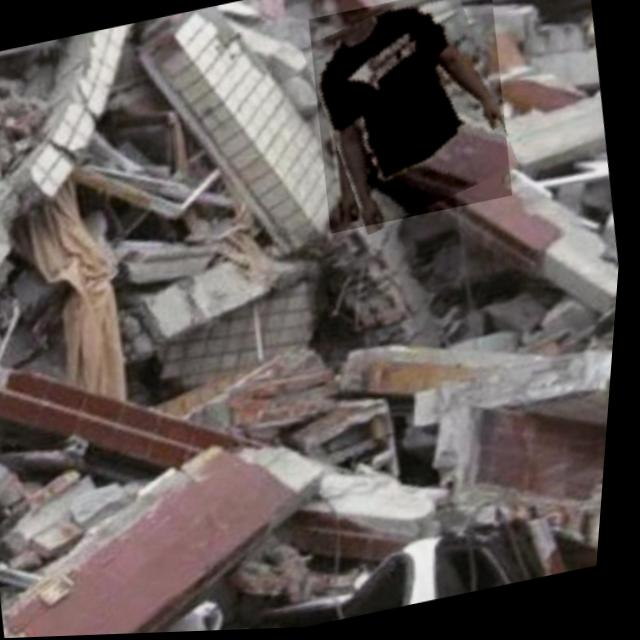Person in Rubble: (297, 0, 528, 238)
